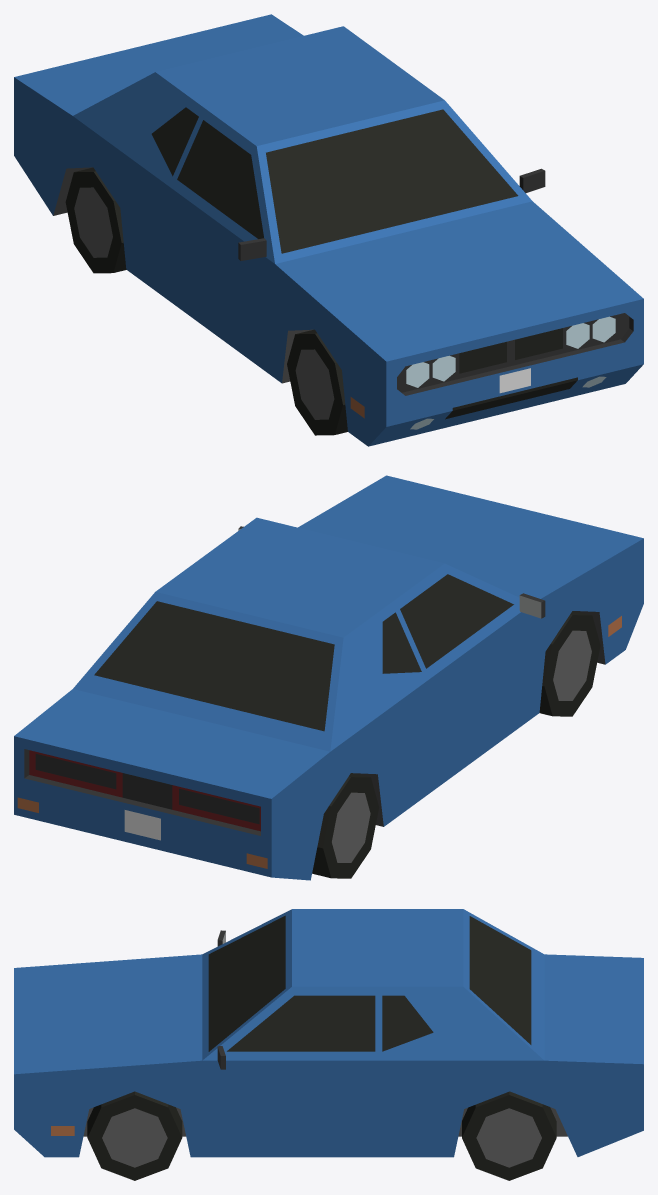
File: Veh_Muscle_Car_01_Blue.glb
3 renders of one model, top to bottom at view 1: azimuth 30°, elevation 25°; view 2: azimuth 150°, elevation 25°; view 3: azimuth 270°, elevation 25°, orthographic. The views are drawn at different scales.
Parts seen in each view (by area): view 1: Muscle_Car_01_Blue, Wheel_FR, Wheel_RR; view 2: Muscle_Car_01_Blue, Wheel_RR, Wheel_FR; view 3: Muscle_Car_01_Blue, Wheel_FL, Wheel_RL.
Part boxes in pixels (box(x1,y1,x2,y2)): Muscle_Car_01_Blue: box(14, 14, 643, 446); Wheel_FR: box(287, 329, 347, 435); Wheel_RR: box(65, 167, 126, 273); Muscle_Car_01_Blue: box(14, 475, 643, 880); Wheel_RR: box(312, 773, 378, 878); Wheel_FR: box(539, 611, 600, 716); Muscle_Car_01_Blue: box(14, 909, 643, 1157); Wheel_FL: box(87, 1091, 182, 1180); Wheel_RL: box(462, 1091, 556, 1180).
Size of the model in its own units: 1.22 by 0.8156 by 2.59.
1 material, 1 textured.
